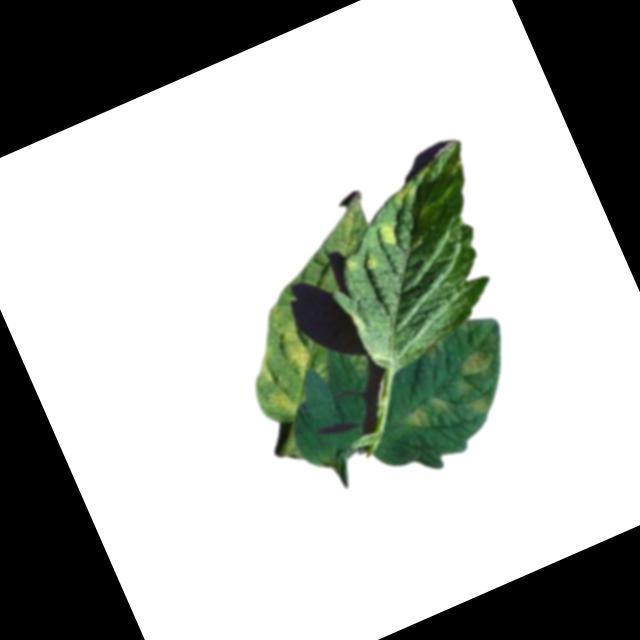Leaf_Mold: (267, 314, 315, 378), (397, 393, 445, 436), (260, 384, 300, 424), (454, 343, 495, 379), (458, 382, 495, 419), (372, 218, 404, 251)
